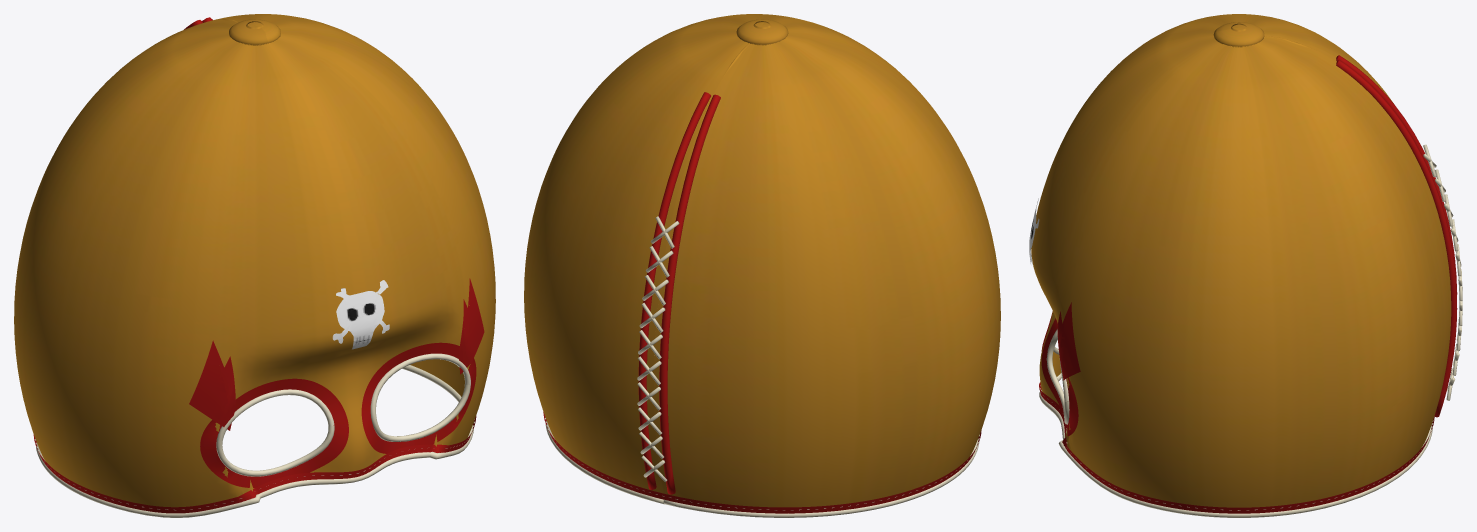
Rendered from mask_luchador_male_lo.glb.
3 views of the same model, side by side, from view 1: azimuth 30°, elevation 25°; view 2: azimuth 150°, elevation 25°; view 3: azimuth 270°, elevation 25° (orthographic). The views are drawn at different scales.
Visible parts, largest first — view 1: mask_luchador.001; view 2: mask_luchador.001; view 3: mask_luchador.001.
Part boxes in pixels (x1,y1,x2,y2): mask_luchador.001: (14,14,495,517); mask_luchador.001: (524,14,1000,517); mask_luchador.001: (1029,14,1462,517).
Bounding box in the file's own units: 0.56 × 0.5148 × 0.5059.
Materials: 1 (1 with a texture image).
